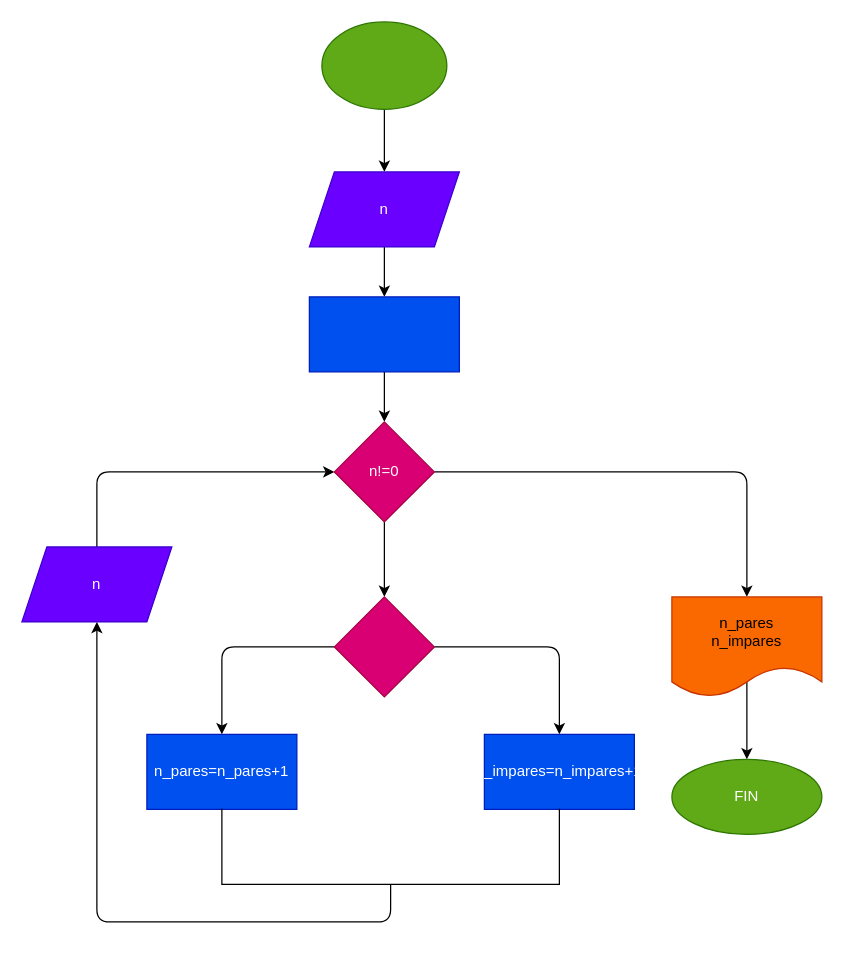
This 844x954 diagram has some shape labels left out. Here are the shapes that lost their labels. From the top down, the centre of each, then its label:
At point (384, 65): "INICIO".
At point (383, 334): "n_pares=0 n_impares=0".
At point (383, 646): "n%2==0".
